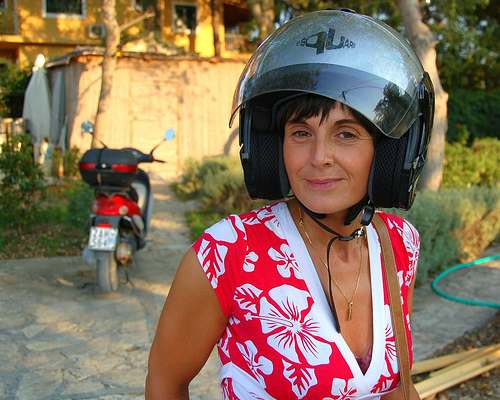helmet: (236, 26, 439, 176)
